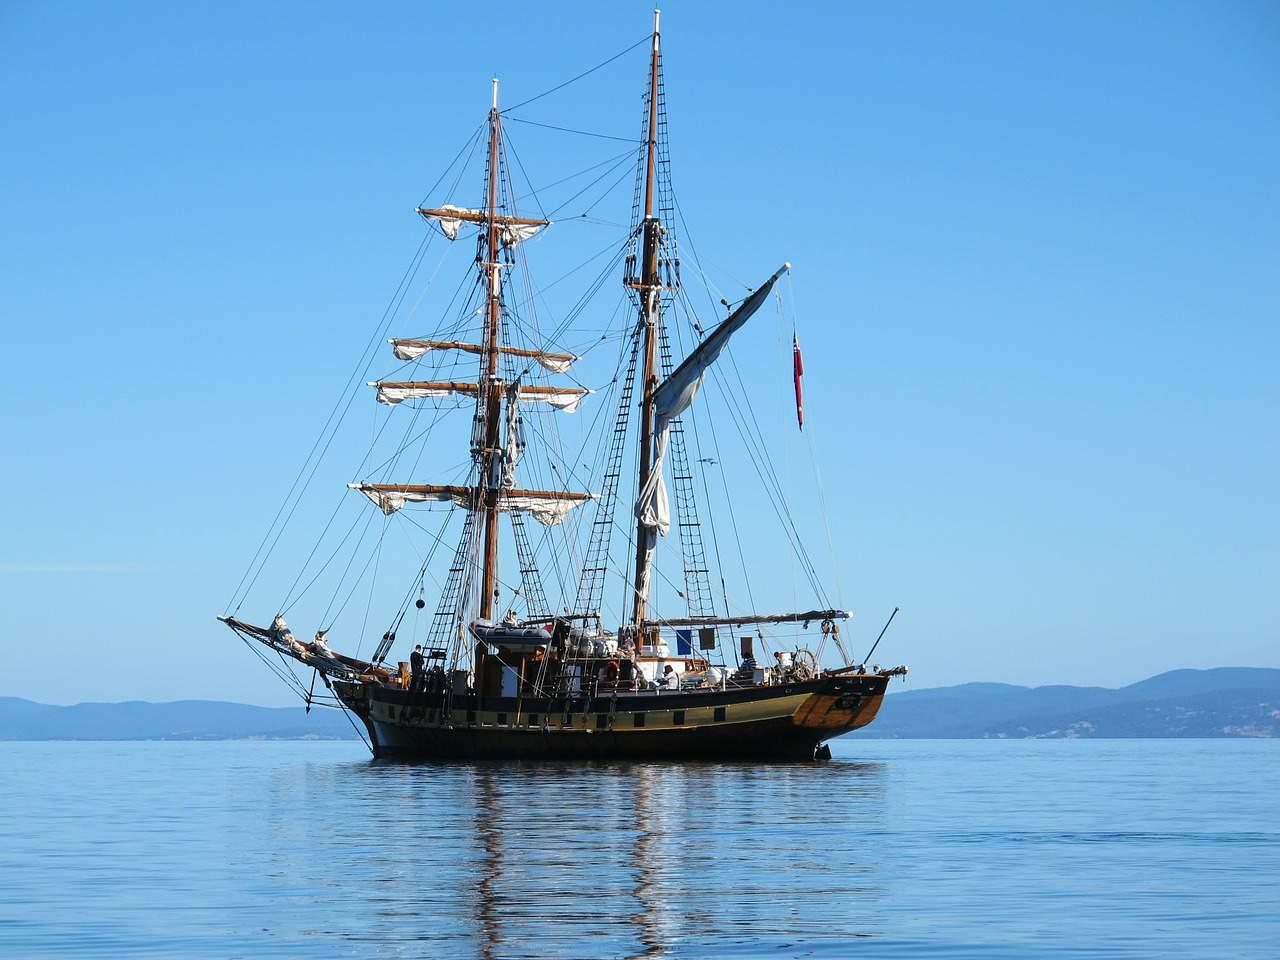Ship: (213, 3, 910, 763)
